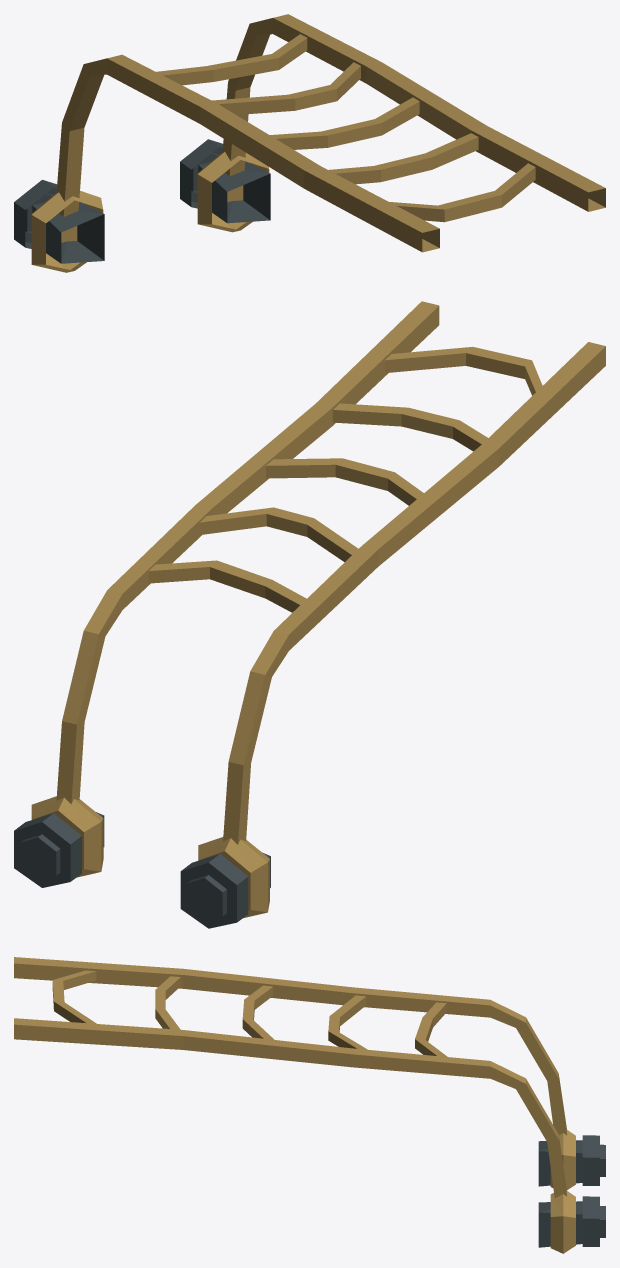
File: Rope Ladder 01.FBX
3 views of the same model, one above another, from view 1: azimuth 30°, elevation 25°; view 2: azimuth 150°, elevation 25°; view 3: azimuth 270°, elevation 25° (orthographic). The views are drawn at different scales.
Visible parts, largest first — view 1: Rope Ladder 01; view 2: Rope Ladder 01; view 3: Rope Ladder 01.
Boxes of the visible parts, left/top/right/bottom form: Rope Ladder 01: left=14, top=14, right=605, bottom=272; Rope Ladder 01: left=14, top=301, right=605, bottom=928; Rope Ladder 01: left=14, top=957, right=605, bottom=1253.
Bounding box in the file's own units: 84.57 × 106 × 244.
